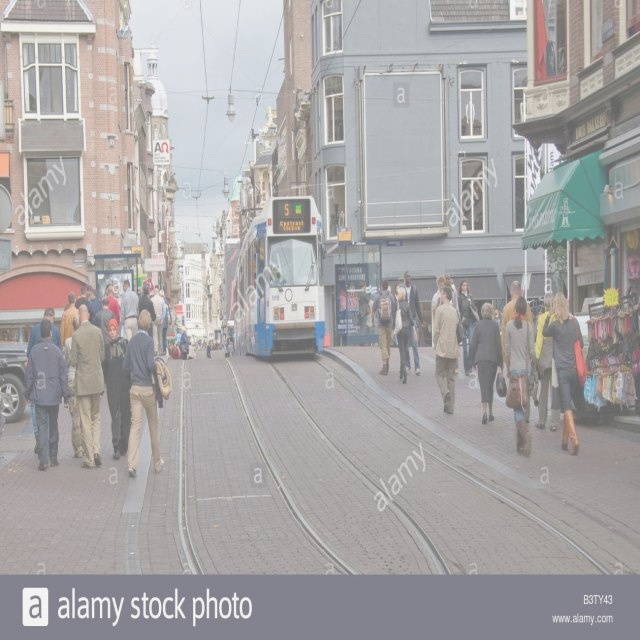pessoa: (119, 308, 173, 478), (540, 290, 588, 459), (22, 316, 71, 472), (68, 302, 106, 470), (503, 294, 539, 458), (24, 307, 62, 457), (98, 318, 132, 462), (469, 301, 508, 426), (431, 284, 467, 415), (534, 288, 562, 432), (62, 314, 88, 460), (499, 279, 534, 368), (370, 277, 398, 377), (391, 286, 418, 385), (166, 323, 236, 361), (404, 270, 426, 376), (457, 277, 478, 377), (60, 292, 80, 379), (120, 278, 140, 343), (430, 274, 454, 324), (150, 287, 167, 357), (94, 294, 117, 345), (136, 284, 157, 338), (386, 281, 402, 349), (356, 278, 371, 348), (159, 288, 173, 356), (76, 278, 121, 298), (105, 286, 121, 328), (444, 272, 459, 314), (88, 288, 104, 324), (74, 286, 92, 314), (178, 324, 190, 360), (491, 308, 501, 333)
